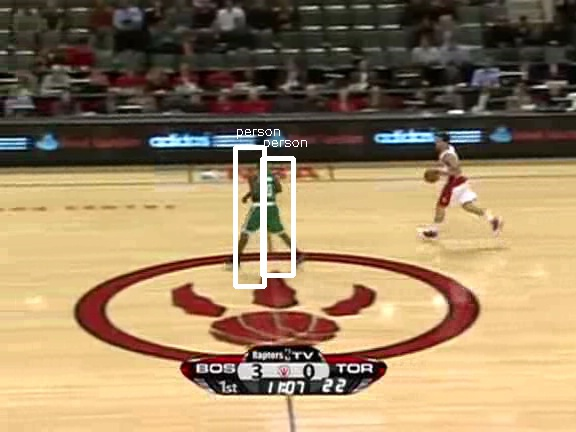person: (251, 164, 285, 245), (250, 164, 284, 245), (252, 164, 286, 245), (251, 163, 285, 244), (251, 165, 285, 246)
target_negative: (72, 33, 435, 195), (327, 312, 438, 333), (157, 415, 440, 420), (500, 82, 503, 197)
